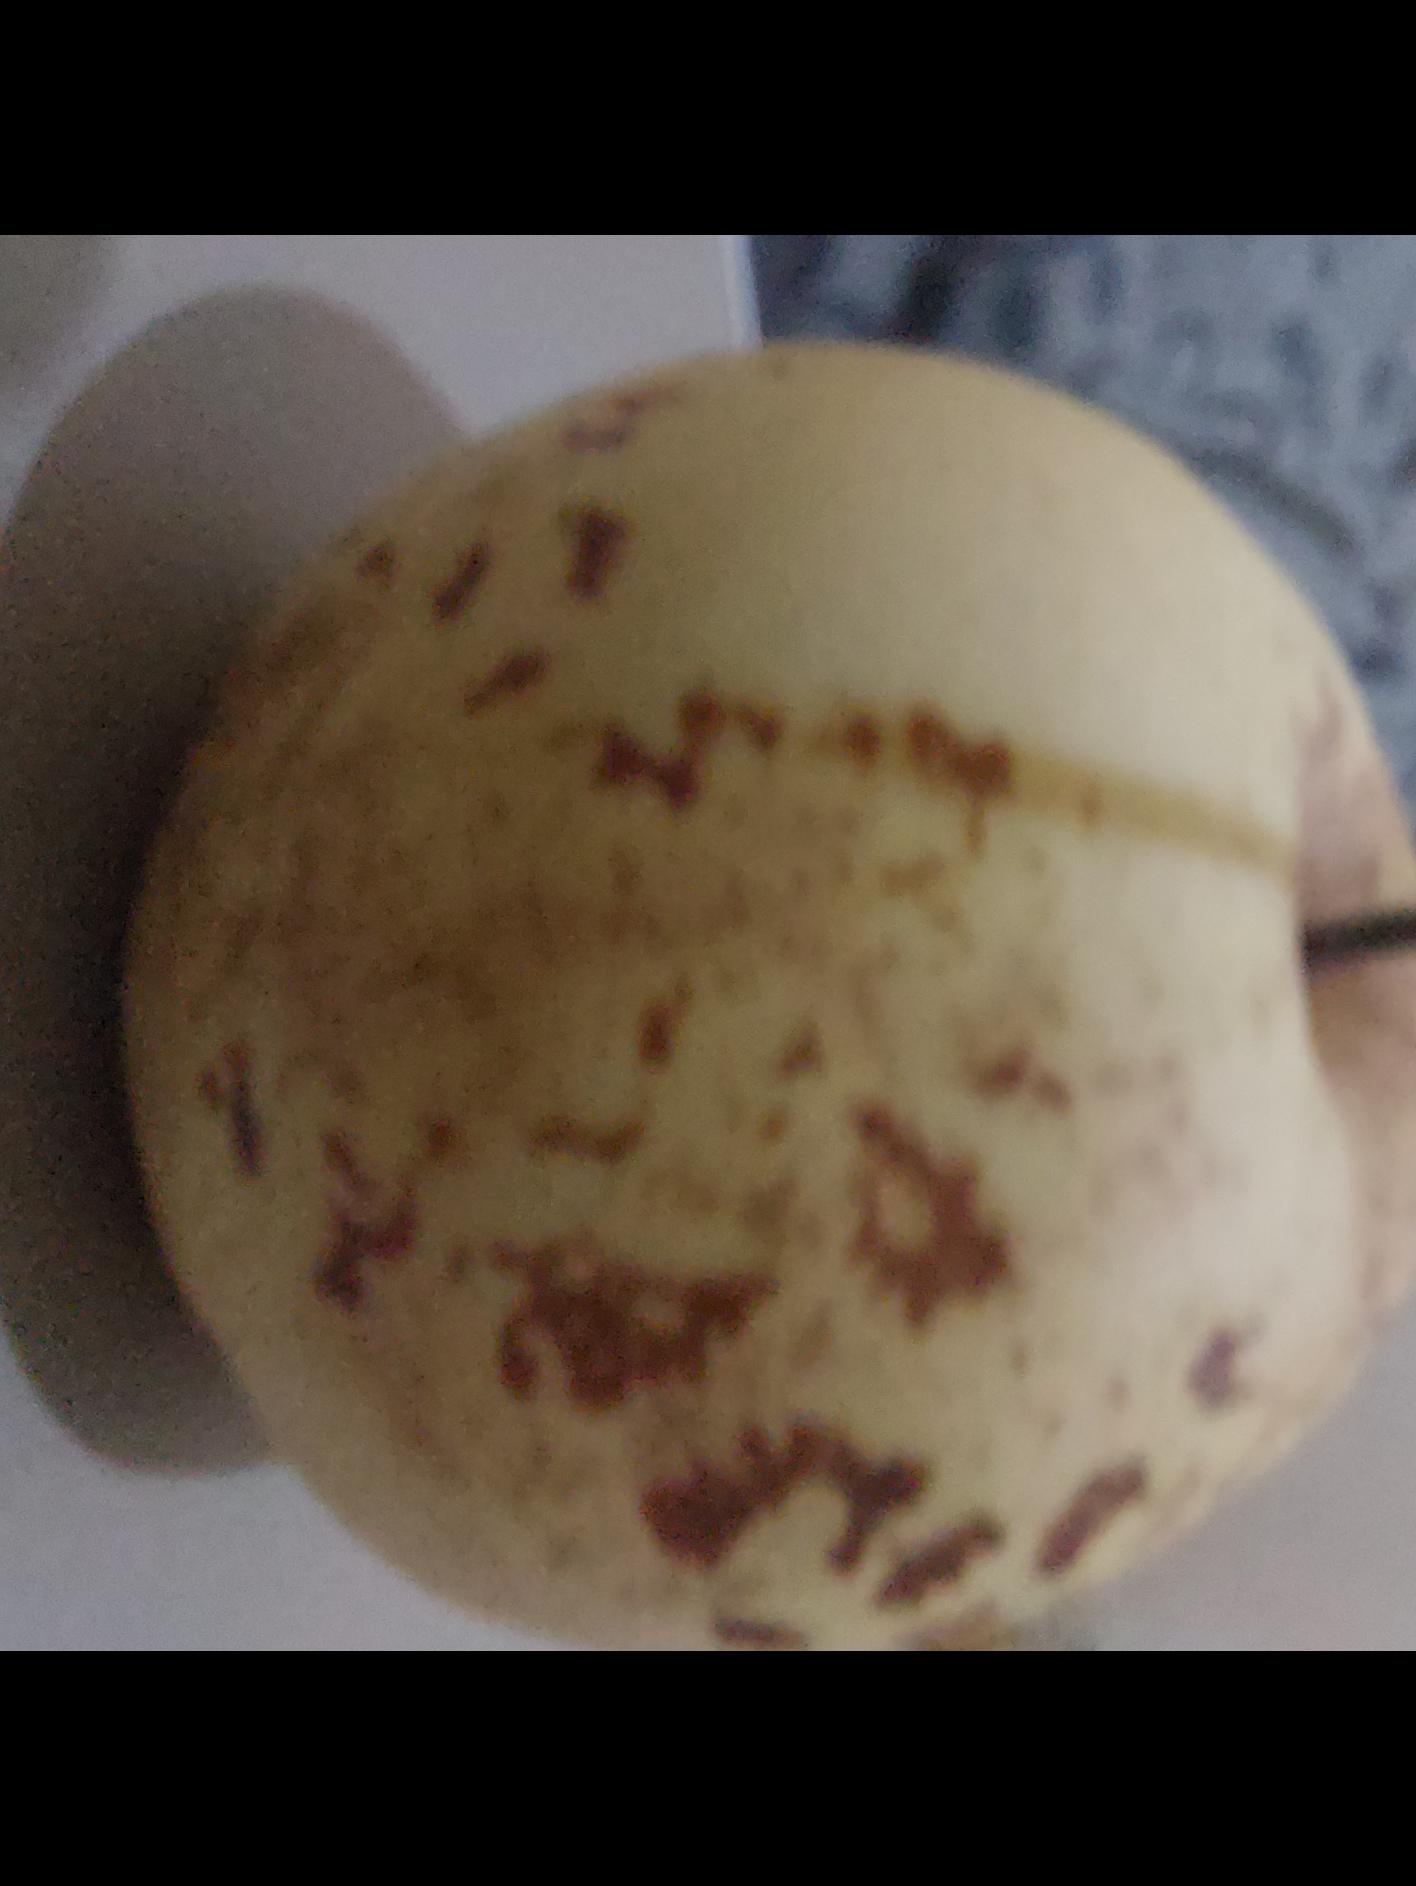Bad Pear: (70, 308, 1416, 1651)
